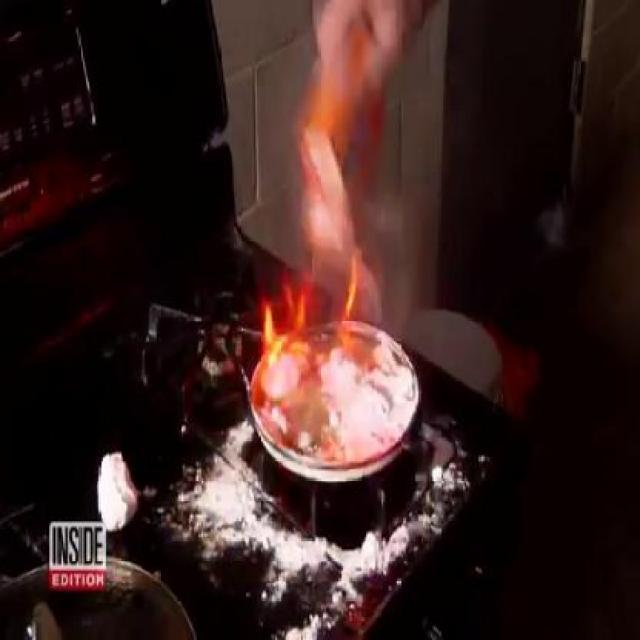fire: (264, 292, 328, 372)
